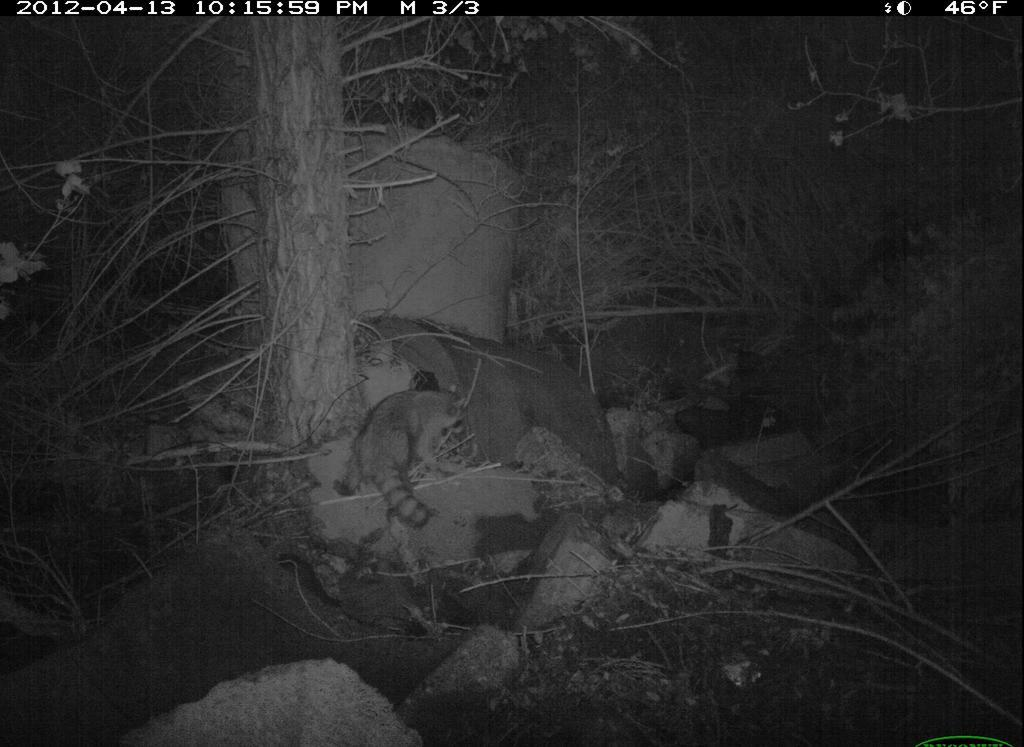raccoon: (323, 372, 486, 538)
